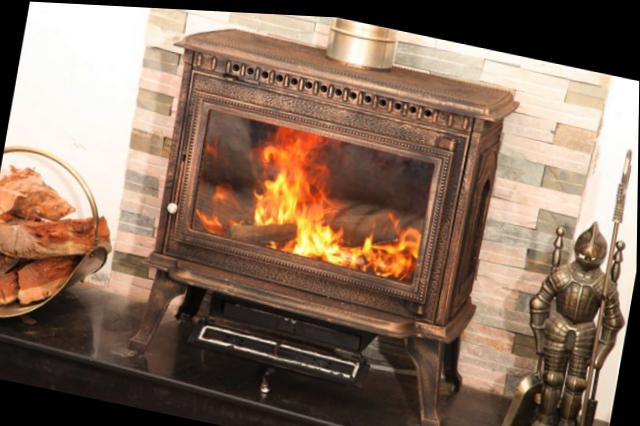fire: (255, 175, 332, 233), (266, 120, 327, 185), (292, 214, 344, 258), (391, 221, 425, 277), (328, 237, 363, 265), (371, 237, 397, 270), (216, 178, 242, 201), (202, 210, 228, 233), (314, 160, 335, 187), (362, 228, 378, 255)
